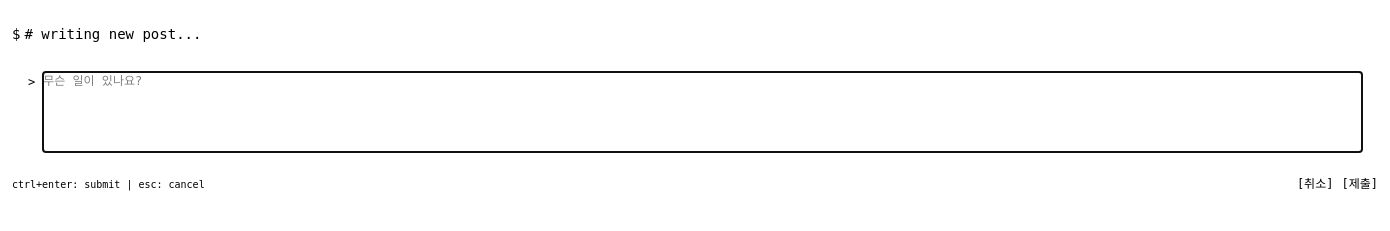
Test: FeedComposer › shows error message on submit failure
Type "will fail" into the text box with placeholder "무슨 일이 있나요?" at (703, 112), box [43,72,1362,152]
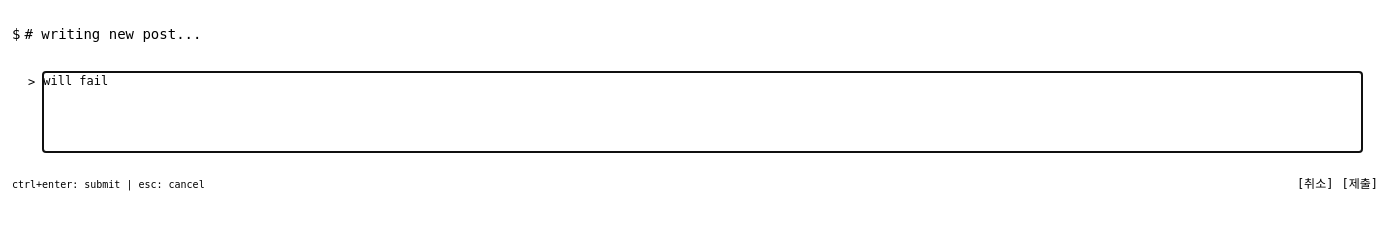
Click the button "[제출]" at (1360, 184), box [1341,176,1378,192]
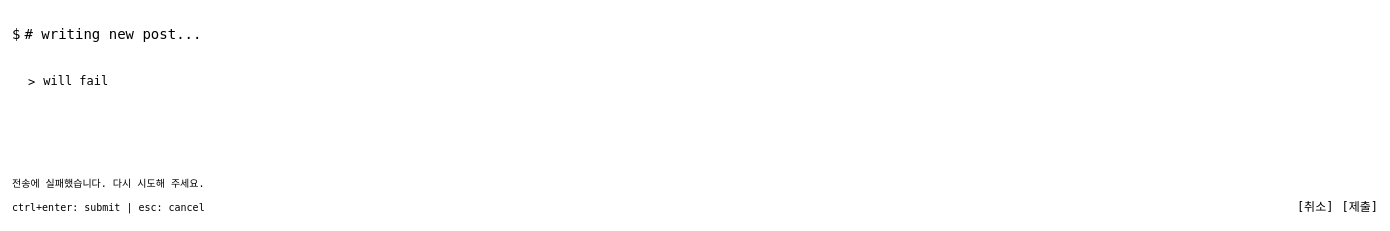
Result: the message "전송에 실패했습니다. 다시 시도해 주세요." is shown at [12,178,204,189]
